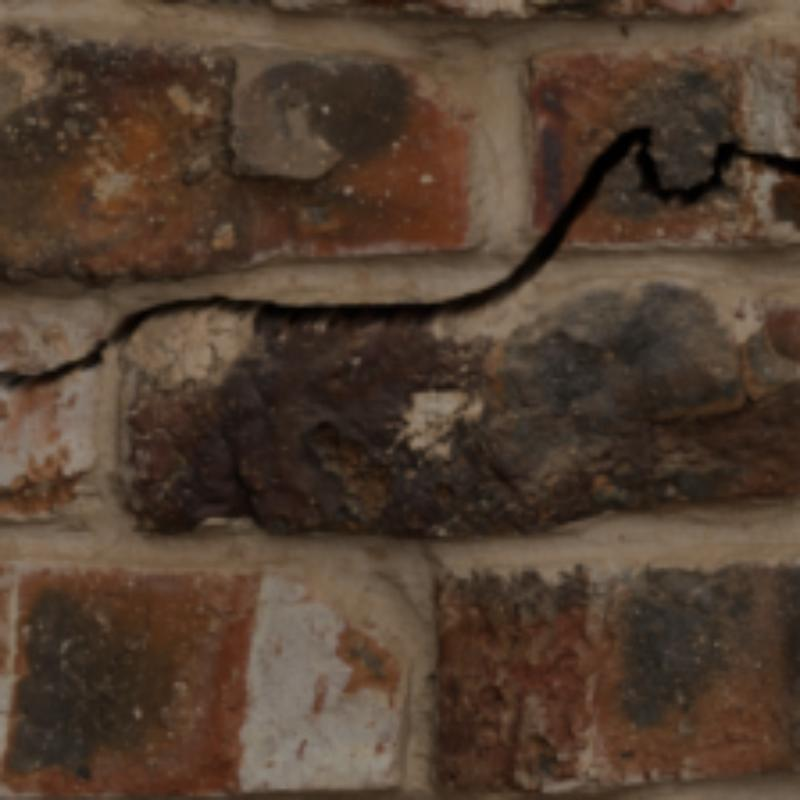pothole: (0, 125, 796, 389)
